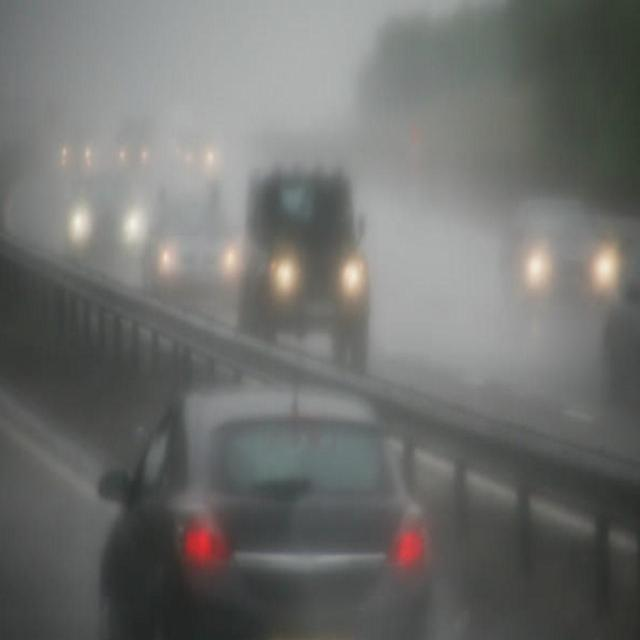Car: (95, 387, 429, 640), (241, 161, 371, 368), (498, 194, 624, 326), (145, 188, 243, 304), (59, 170, 143, 260)
